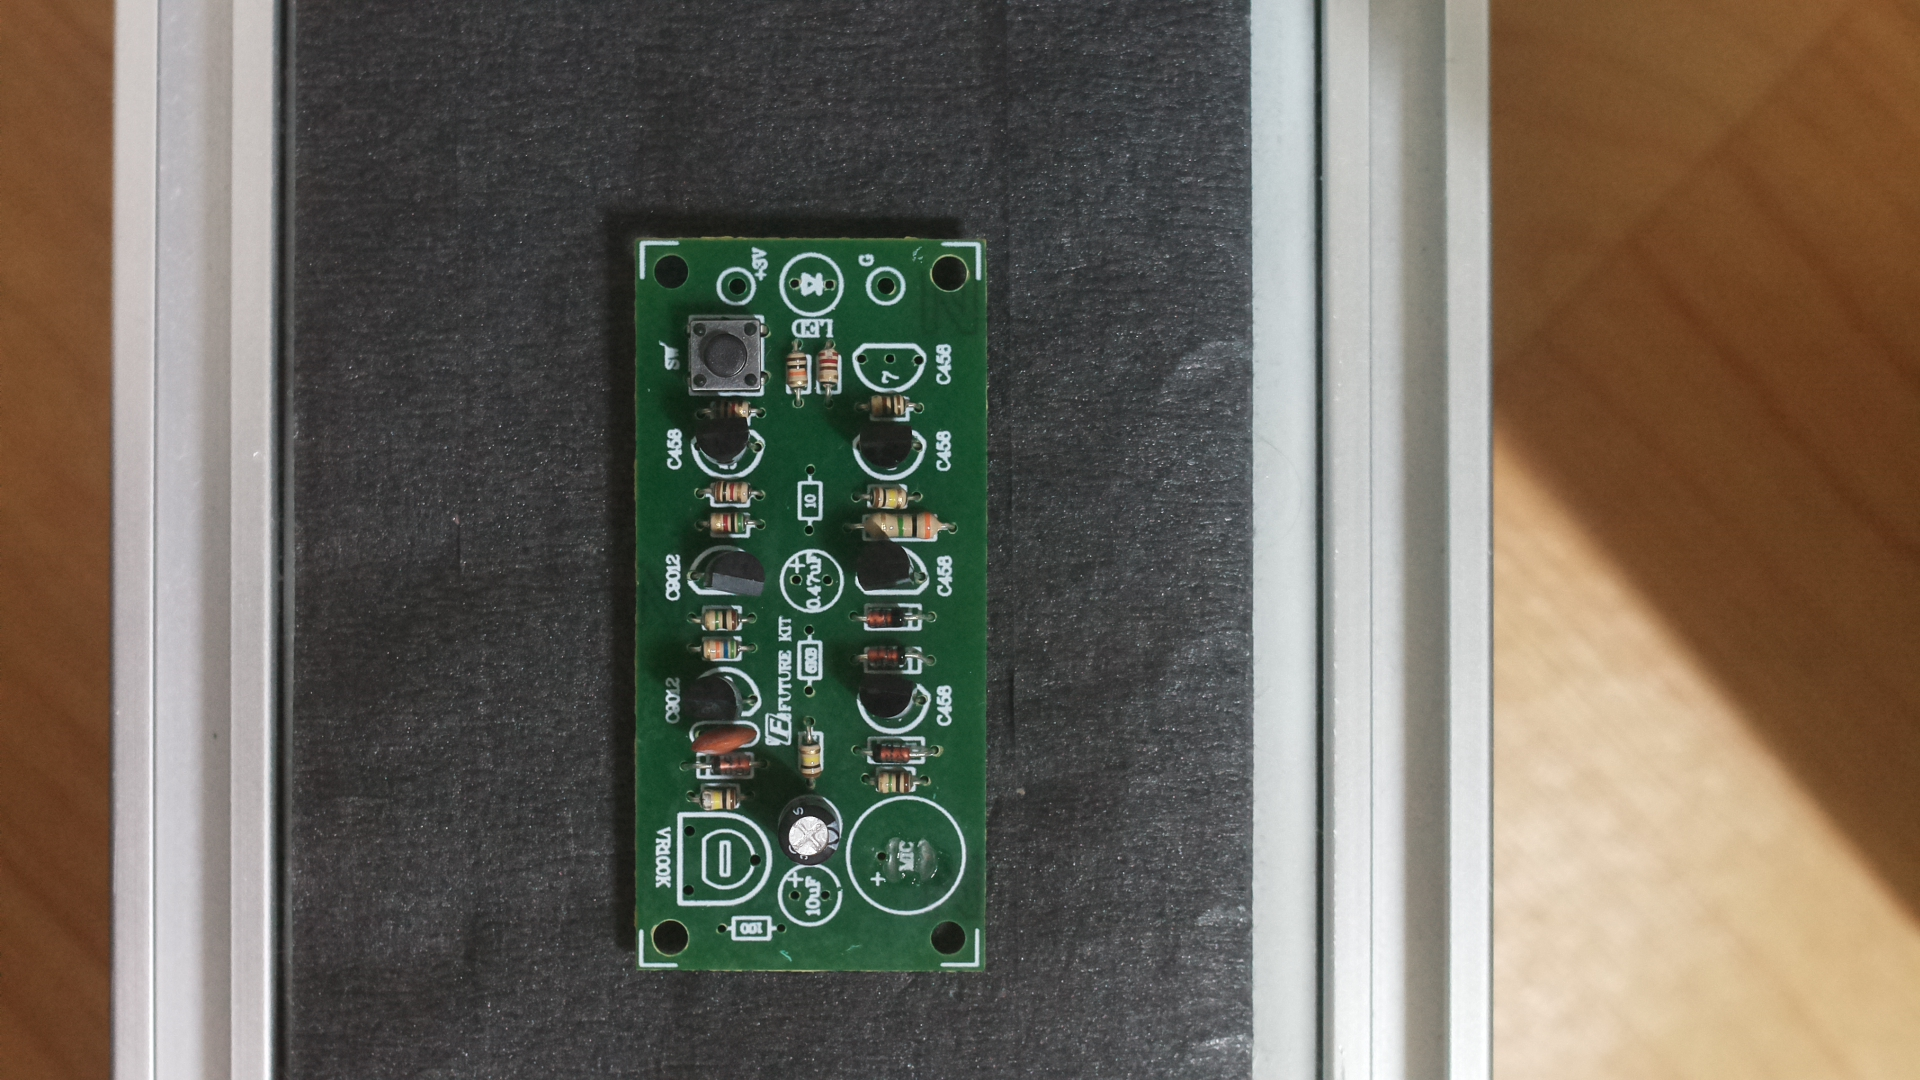A_Missing_part: (612, 219, 1005, 994)
